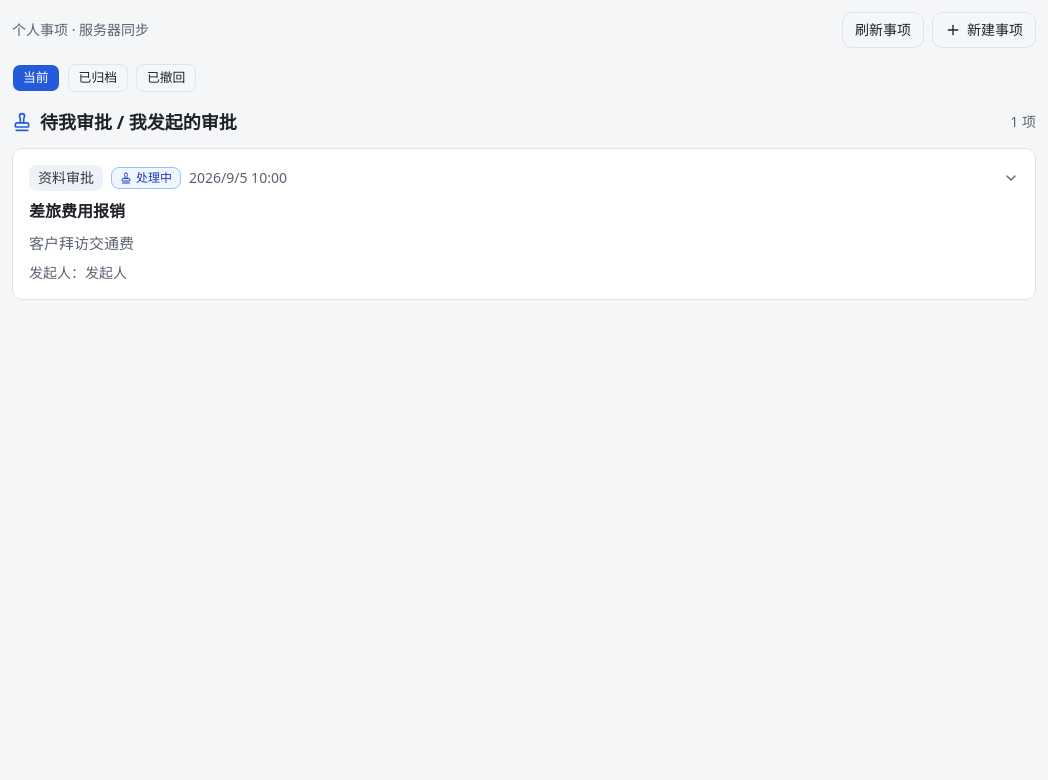
Test: allows the creator to withdraw a partially approved request and renders lifecycle audit text
This screenshot has width=1048, height=780.
Click the button "资料审批 处理中 2026/9/5 10:00 差旅费用报销 客户拜访交通费 发起人：发起人".
click(524, 224)  # box [13,149,1035,299]
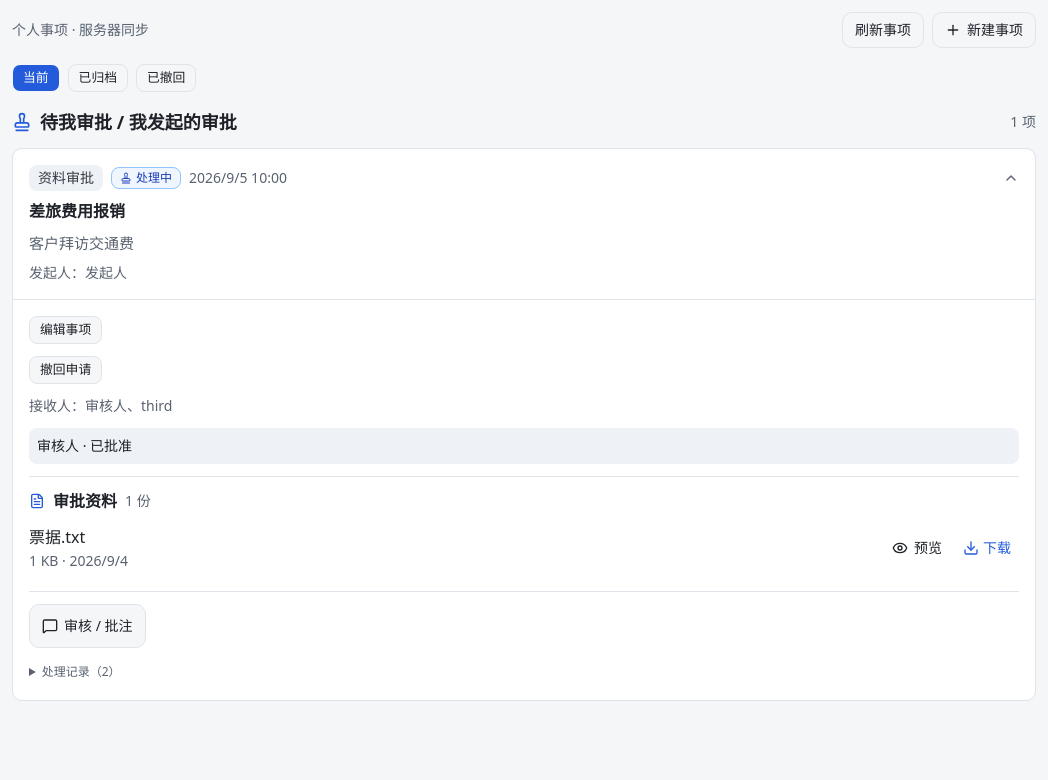
Expected: the button "撤回申请" is shown, [29,356,102,384]
